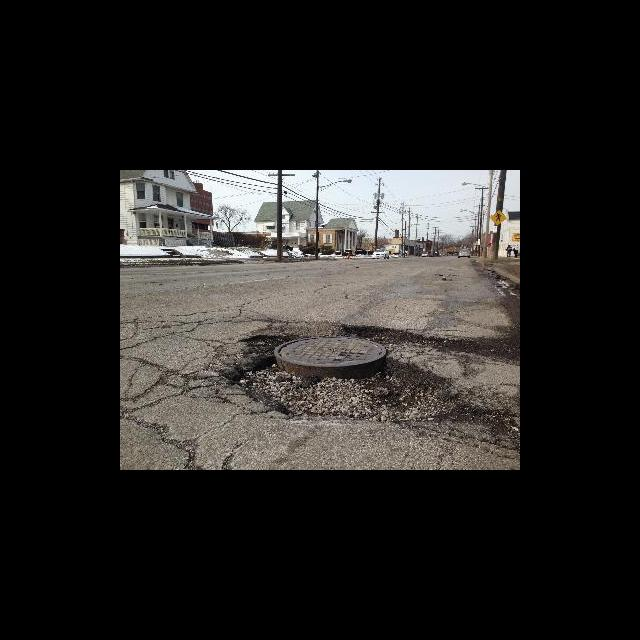lubang_kecil: (236, 363, 451, 424), (120, 307, 226, 411), (338, 313, 423, 350)
